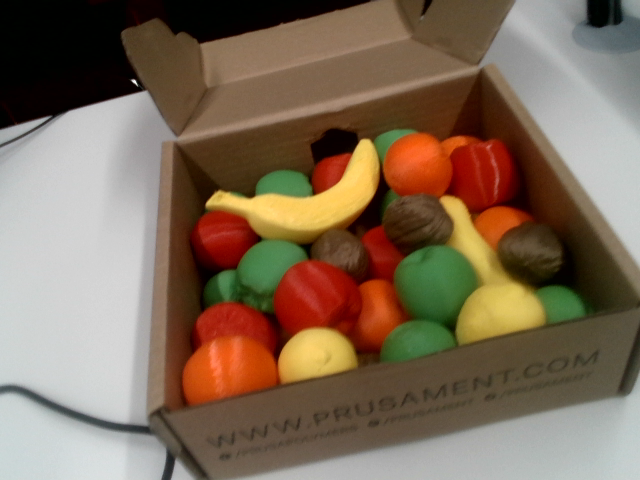Banana: (205, 139, 379, 242), (439, 196, 518, 285)
Crvena jabuka: (273, 260, 361, 334), (449, 139, 518, 212), (192, 301, 277, 353), (190, 211, 259, 271), (361, 226, 404, 282), (312, 154, 350, 192)
Limun: (456, 282, 545, 344), (278, 328, 357, 383)
Naranca: (183, 336, 278, 404), (348, 279, 408, 352), (384, 135, 450, 196), (473, 205, 533, 249), (441, 135, 480, 155)
Orah: (382, 193, 452, 254), (497, 223, 564, 283), (311, 229, 368, 282)
Zelena jabuka: (394, 245, 478, 329), (236, 240, 307, 312), (381, 319, 456, 361), (535, 285, 589, 323), (203, 269, 241, 308), (374, 129, 417, 163), (256, 170, 312, 195)
